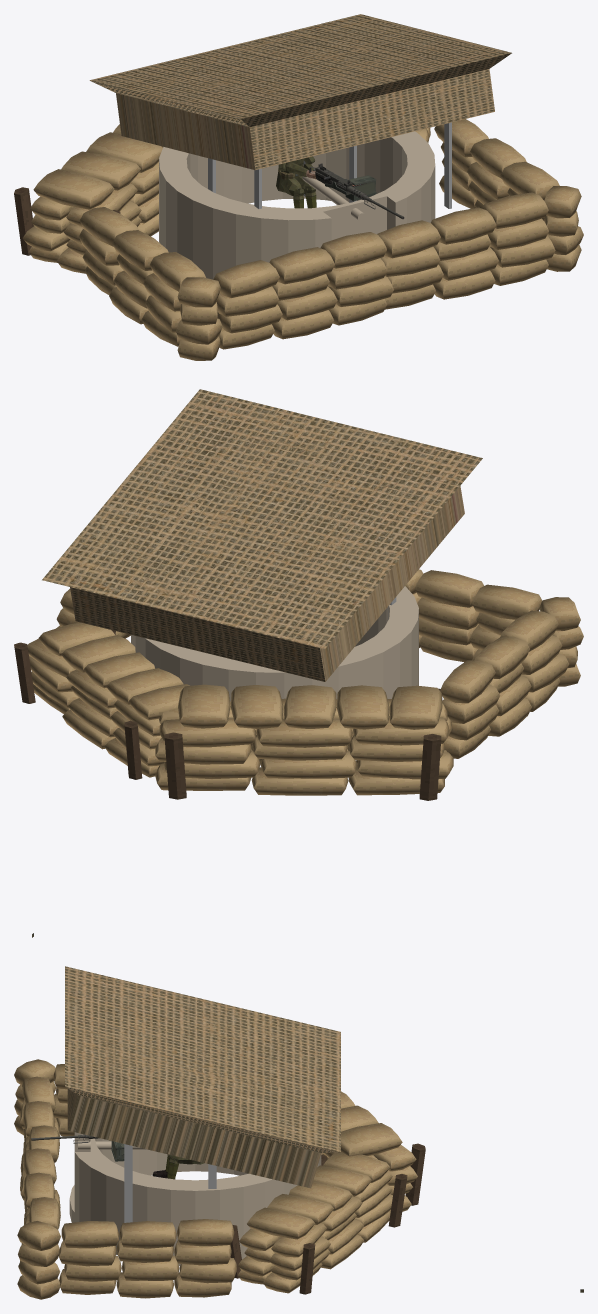
Rendered from mg_nest.glb.
The picture shows the model from 3 angles, top to bottom: view 1: azimuth 30°, elevation 25°; view 2: azimuth 150°, elevation 25°; view 3: azimuth 270°, elevation 25°; orthographic projection. The views are drawn at different scales.
Parts seen in each view (by area): view 1: mg_nest-col; view 2: mg_nest-col; view 3: mg_nest-col.
Boxes of the visible parts, left/top/right/bottom form: mg_nest-col: left=14, top=14, right=583, bottom=360; mg_nest-col: left=14, top=389, right=583, bottom=937; mg_nest-col: left=14, top=966, right=583, bottom=1299.
Size of the model in its own units: 5.26 by 3.43 by 6.8.
Materials: 9 (7 with a texture image).
